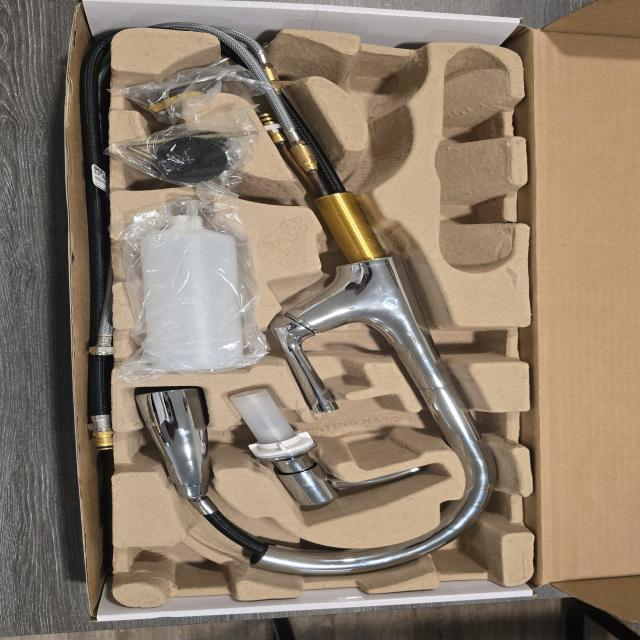1: (137, 31, 502, 575)
2: (226, 387, 424, 507)
3: (136, 197, 247, 374)
4m: (433, 48, 511, 273)
5m: (349, 56, 422, 112)
6: (104, 53, 274, 124)
7: (103, 103, 263, 206)
